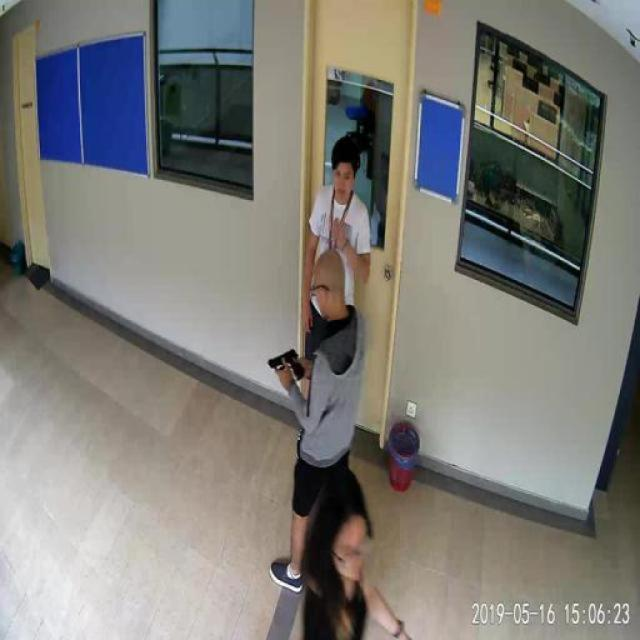pistol: (266, 348, 303, 380)
